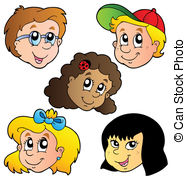face: (4, 1, 65, 75), (8, 106, 69, 177), (92, 116, 162, 174), (101, 7, 165, 70), (61, 53, 116, 113)
